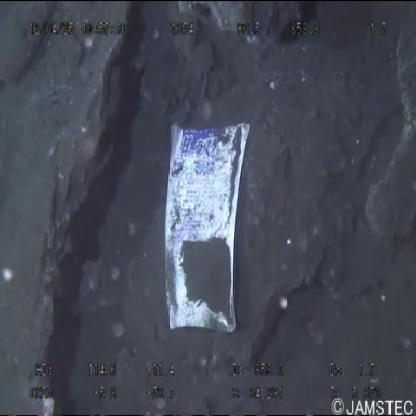Rác: (159, 119, 252, 354)
